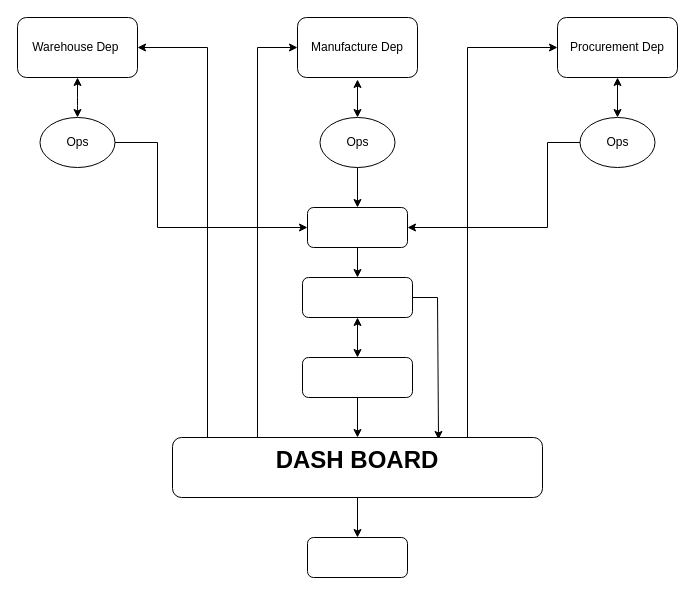
The diagram is 695 pixels wide and 595 high, and some of its shapes have lost their labels. The shapes that lost their labels are listed below. From the top down, each one's centre as x and y in pixels, then its label:
the point at 357,227: ETL Tool Extract transform load
the point at 357,297: DATA Warehouse Decision Support System
the point at 357,377: BL Tools Business Indulgence tool
the point at 357,557: SABA DIRECORS
